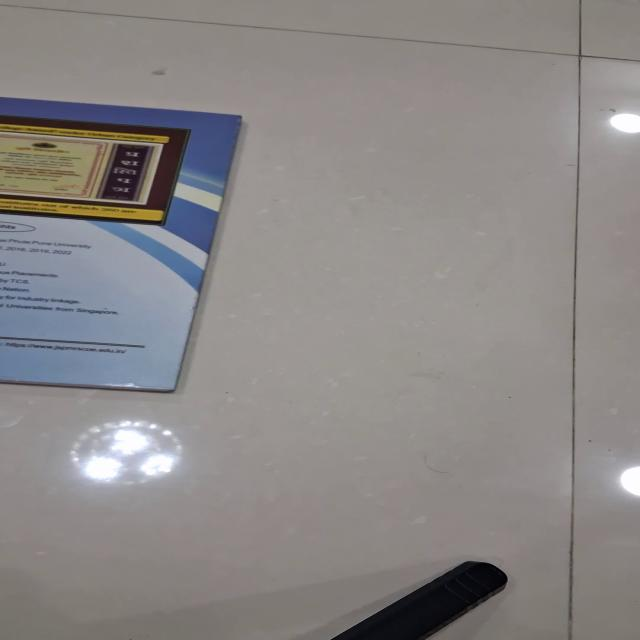paper: (0, 96, 242, 392)
